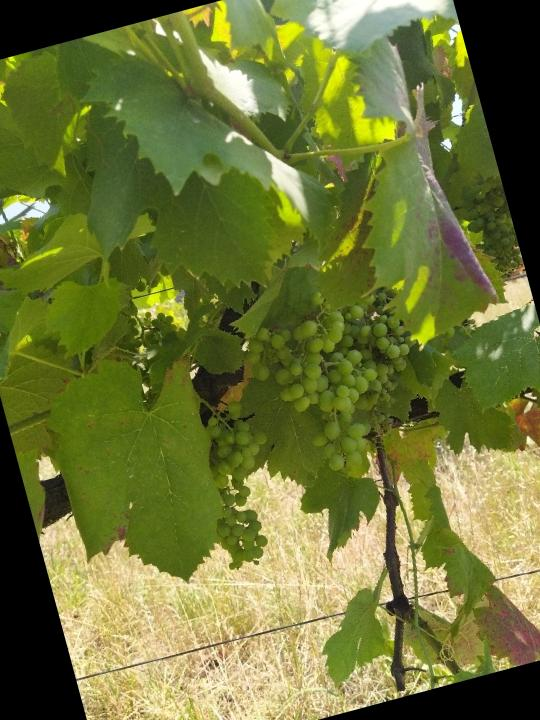grape: (242, 290, 447, 503), (186, 398, 299, 576)
